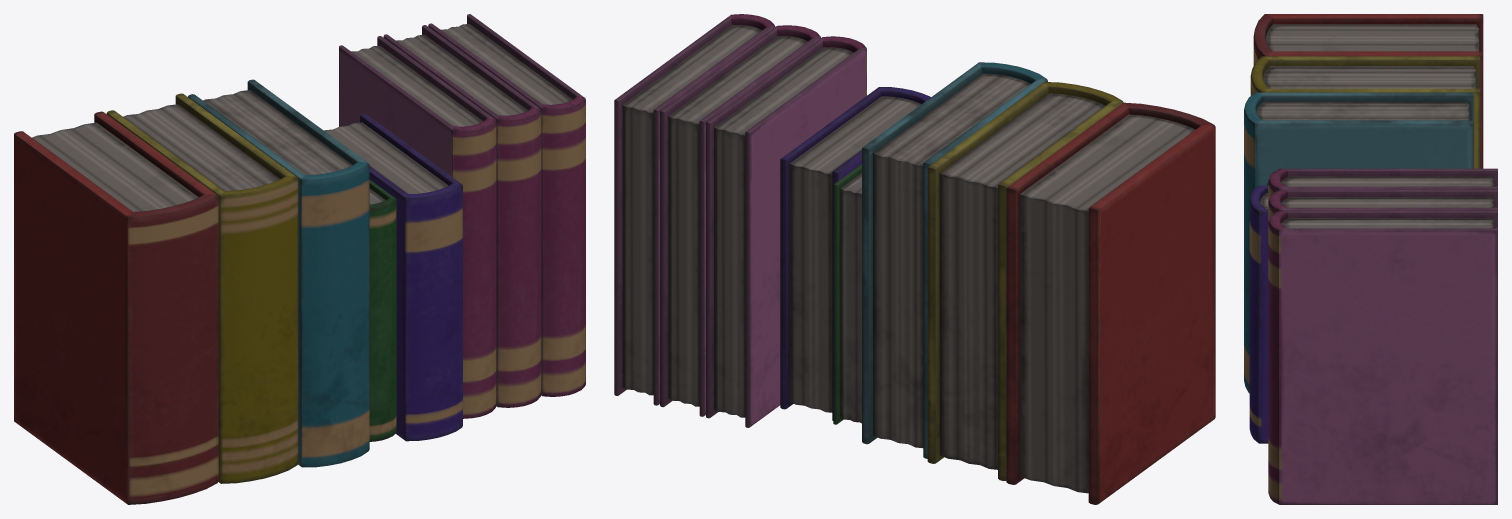
Rendered from Books_V2.fbx.
The picture shows the model from 3 angles, left to right: view 1: azimuth 30°, elevation 25°; view 2: azimuth 150°, elevation 25°; view 3: azimuth 270°, elevation 25°; orthographic projection. The views are drawn at different scales.
Parts seen in each view (by area): view 1: Books_v2; view 2: Books_v2; view 3: Books_v2.
Boxes of the visible parts, x1,y1,x2,y2 form: Books_v2: (14,14,585,504); Books_v2: (614,14,1215,504); Books_v2: (1244,14,1497,504).
Bounding box in the file's own units: 120 × 71.21 × 59.26.
1 material, 1 textured.
